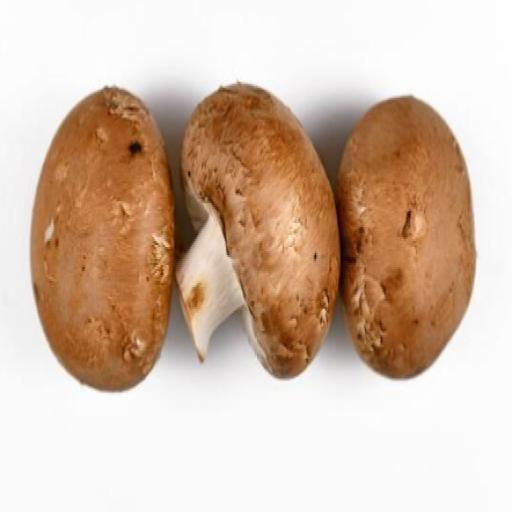mushroom: (24, 64, 175, 395), (181, 80, 338, 383), (338, 91, 475, 376)
